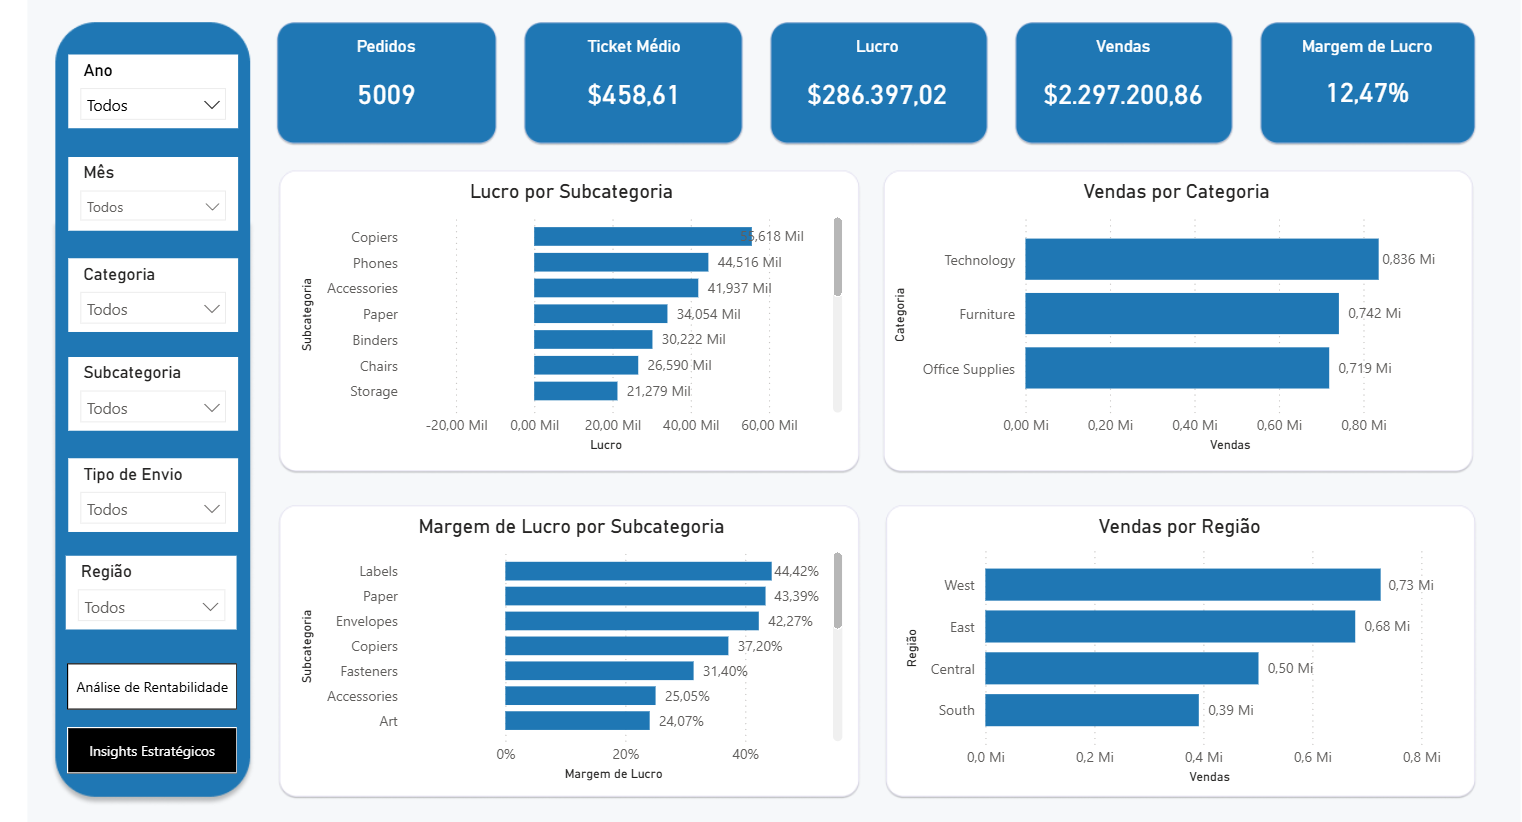

What the dashboard file says about the page in this screenshot:
{"tool":"powerbi","page":{"name":"Visão Geral","canvas":[1280,720],"ordinal":0},"visuals":[{"type":"card","title":"Vendas","fields":{"Values":["Orders.Total Sales"]},"box":[849.4,37,179.8,83.7],"z":0},{"type":"card","title":"Lucro","fields":{"Values":["Orders.Total Profit"]},"box":[639.5,37,178.4,83.7],"z":1000},{"type":"card","title":"Margem de Lucro","fields":{"Values":["Orders.Profit Margin"]},"box":[1064.8,37,167.4,79.6],"z":2000},{"type":"card","title":"Pedidos","fields":{"Values":["Orders.Total Orders"]},"box":[218.2,37,178.4,83.7],"z":3000},{"type":"card","title":"Ticket Médio","fields":{"Values":["Orders.Averege Order Value"]},"box":[433.6,37,172.9,83.7],"z":4000},{"type":"clusteredBarChart","title":"Vendas por Categoria","fields":{"Category":["Orders.Category"],"Y":["Orders.Total Sales"]},"box":[738.3,160.5,494,238.8],"z":5000},{"type":"clusteredBarChart","title":"Lucro por Subcategoria","fields":{"Category":["Orders.Sub-Category"],"Y":["Orders.Total Profit"]},"box":[229.2,160.5,474.8,238.8],"z":6000},{"type":"clusteredBarChart","title":"Margem de Lucro por Subcategoria","fields":{"Category":["Orders.Sub-Category"],"Y":["Orders.Profit Margin"]},"box":[229.2,447.3,474.8,233.3],"z":7000},{"type":"clusteredBarChart","title":"Vendas por Região","fields":{"Y":["Orders.Total Sales"],"Category":["Orders.Region"]},"box":[747.9,447.3,480.3,236],"z":8000},{"type":"slicer","fields":{"Values":["Orders.Order Date.Variation.Date Hierarchy.Year"]},"box":[35.2,53.5,145.5,63.1],"z":9000},{"type":"slicer","fields":{"Values":["Orders.Order Date.Variation.Date Hierarchy.Month"]},"box":[35.2,141.3,145.5,63.1],"z":10000},{"type":"slicer","fields":{"Values":["Orders.Category"]},"box":[35.2,227.8,145.5,63.1],"z":11000},{"type":"slicer","fields":{"Values":["Orders.Sub-Category"]},"box":[35.2,312.9,145.5,63.1],"z":12000},{"type":"slicer","fields":{"Values":["Orders.Ship Mode"]},"box":[35.2,399.3,145.5,63.1],"z":13000},{"type":"slicer","fields":{"Values":["Orders.Region"]},"box":[33.6,483.6,146.4,63.1],"z":14000},{"type":"actionButton","title":"fddgdfgfdgdfbdb","box":[35,565.8,135.1,21.7],"z":15000}]}

Visuals, with their boxes on the page's 1280x720 design canvas (x1, y1, x2, y2). These are canvas units, not pixel positions in the 1522x822 screenshot, which may show the page scaled, cropped or inside an application window:
"Vendas" card: 849 37 1029 121
"Lucro" card: 640 37 818 121
"Margem de Lucro" card: 1065 37 1232 117
"Pedidos" card: 218 37 397 121
"Ticket Médio" card: 434 37 606 121
"Vendas por Categoria" clusteredBarChart: 738 160 1232 399
"Lucro por Subcategoria" clusteredBarChart: 229 160 704 399
"Margem de Lucro por Subcategoria" clusteredBarChart: 229 447 704 681
"Vendas por Região" clusteredBarChart: 748 447 1228 683
slicer - Orders.Order Date.Variation.Date Hierarchy.Year: 35 54 181 117
slicer - Orders.Order Date.Variation.Date Hierarchy.Month: 35 141 181 204
slicer - Orders.Category: 35 228 181 291
slicer - Orders.Sub-Category: 35 313 181 376
slicer - Orders.Ship Mode: 35 399 181 462
slicer - Orders.Region: 34 484 180 547
"fddgdfgfdgdfbdb" actionButton: 35 566 170 588
